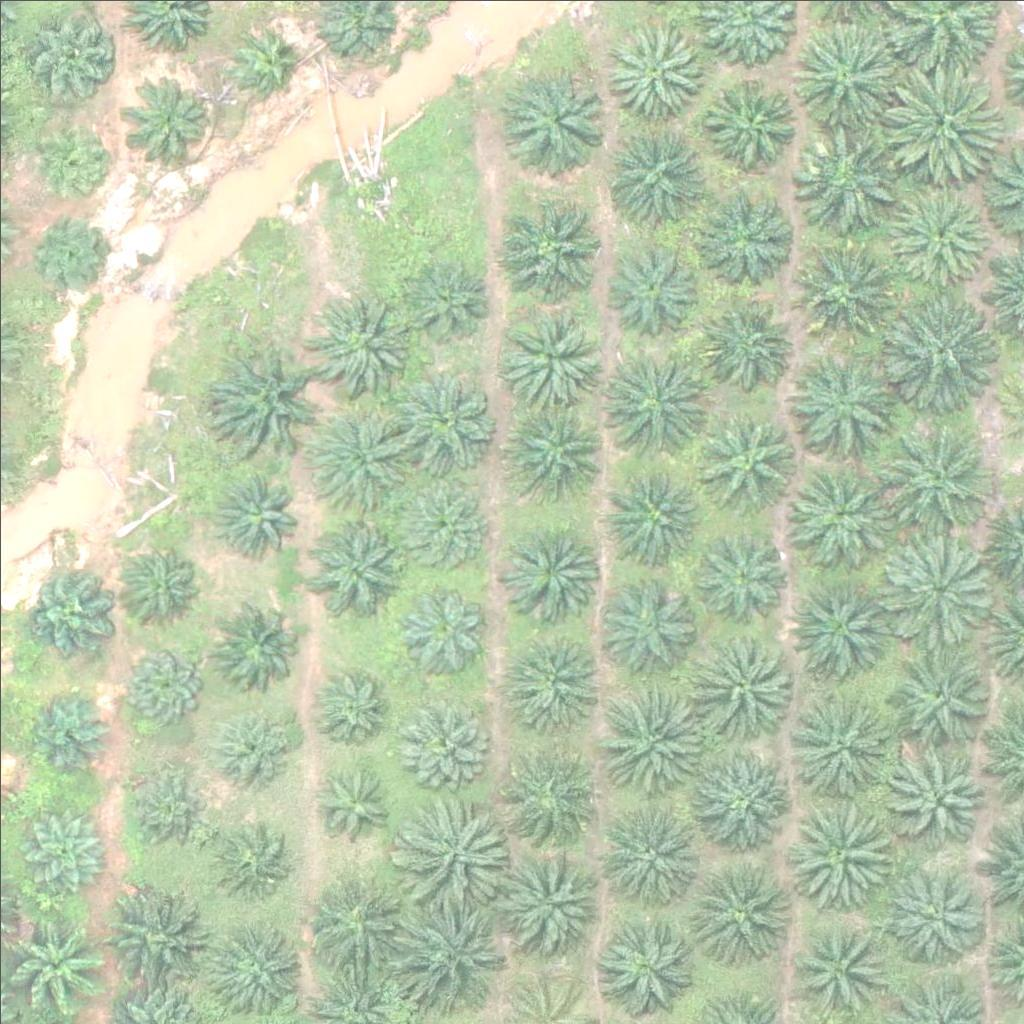Kelapa_Sawit: (884, 417, 997, 531), (784, 794, 897, 907), (592, 687, 705, 800), (211, 342, 324, 455), (791, 125, 904, 238), (884, 292, 997, 405), (587, 796, 699, 910), (394, 797, 506, 911), (394, 889, 506, 1003), (789, 23, 901, 137), (887, 71, 999, 185), (884, 533, 996, 646), (783, 690, 895, 803), (484, 848, 596, 961), (309, 405, 421, 518), (597, 347, 709, 460), (884, 864, 984, 965), (887, 748, 987, 849), (789, 583, 889, 684), (788, 917, 888, 1018), (694, 860, 794, 961), (688, 752, 788, 853), (689, 627, 789, 728), (596, 575, 696, 676), (589, 916, 689, 1017), (503, 740, 603, 841), (499, 625, 599, 726), (498, 517, 598, 618), (303, 870, 403, 971), (205, 919, 305, 1020), (4, 915, 104, 1016), (509, 65, 609, 166), (602, 16, 702, 117), (704, 71, 804, 172), (315, 293, 415, 394), (390, 376, 490, 477), (506, 307, 606, 408), (506, 395, 606, 496), (602, 463, 702, 564), (888, 183, 988, 284), (894, 642, 994, 742), (390, 579, 490, 679), (304, 515, 404, 615), (103, 893, 203, 993), (604, 115, 704, 215), (500, 198, 600, 298), (604, 239, 704, 339), (692, 194, 792, 294), (700, 414, 800, 514), (695, 298, 795, 398), (789, 465, 889, 565), (789, 348, 889, 448), (797, 235, 897, 335), (311, 659, 399, 748), (397, 483, 485, 572), (205, 806, 293, 894), (18, 800, 106, 888), (21, 561, 109, 649), (27, 112, 115, 200), (117, 534, 204, 622), (122, 641, 209, 729), (122, 762, 209, 850), (315, 753, 402, 841), (212, 702, 299, 790), (216, 602, 303, 690), (699, 531, 786, 619), (396, 690, 483, 778), (24, 694, 111, 782), (26, 11, 113, 99), (124, 70, 211, 158), (26, 211, 113, 299), (211, 465, 298, 553), (402, 258, 489, 346), (224, 20, 299, 96)
